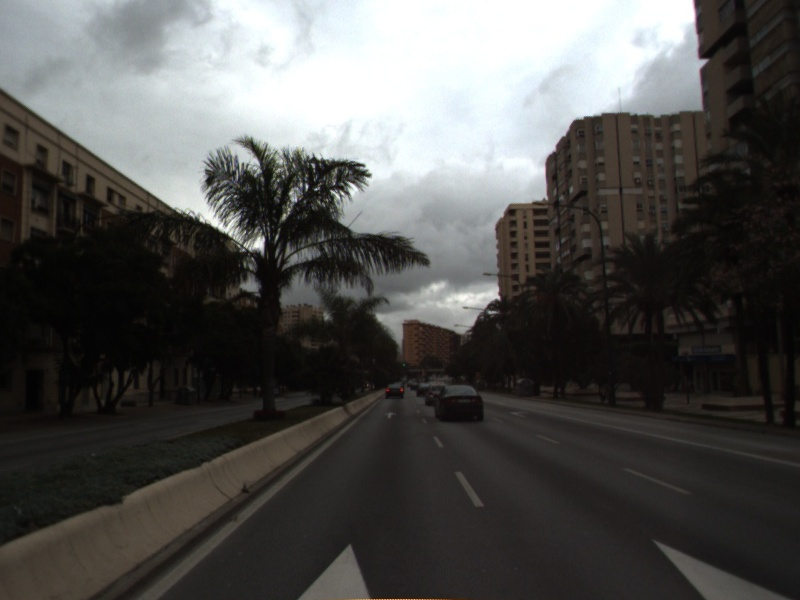RIGHT: (508, 408, 529, 419)
STRAIGHT: (382, 410, 399, 420)
